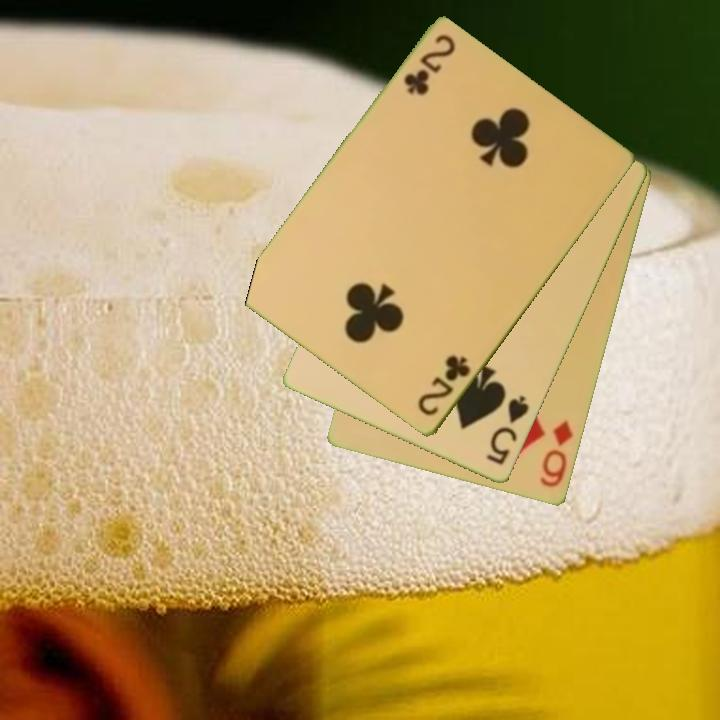2c: (414, 352, 474, 420), (400, 31, 458, 99)
5s: (483, 392, 532, 469)
6d: (537, 417, 576, 491)
